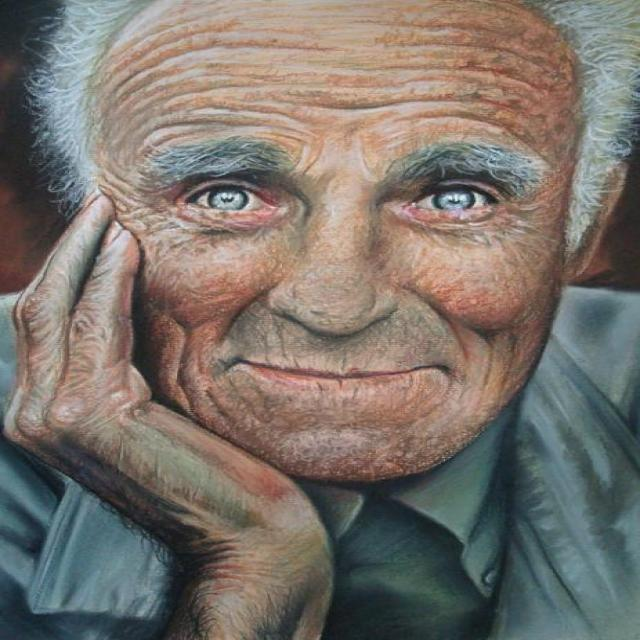earlobe: (560, 153, 627, 285)
